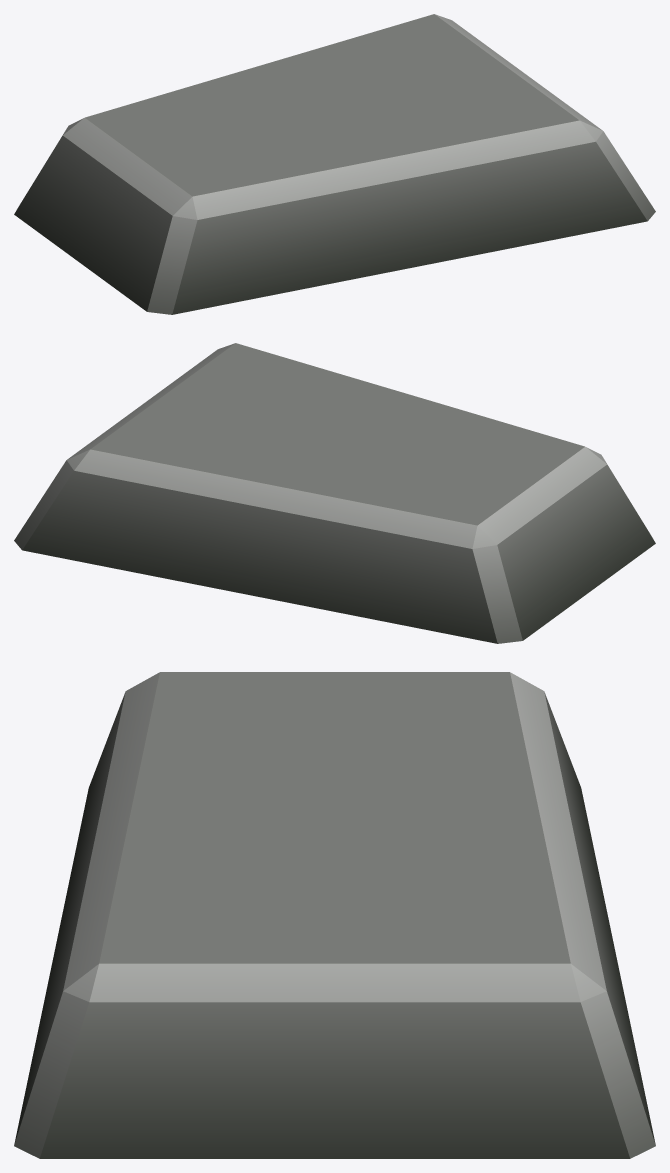
The model's file is Roadstones-1-5.fbx.
3 renders of one model, top to bottom at view 1: azimuth 30°, elevation 25°; view 2: azimuth 150°, elevation 25°; view 3: azimuth 270°, elevation 25°, orthographic. The views are drawn at different scales.
Parts seen in each view (by area): view 1: Roadstones-1-5; view 2: Roadstones-1-5; view 3: Roadstones-1-5.
Part boxes in pixels (left/top/right/bottom): Roadstones-1-5: left=14, top=14, right=655, bottom=314; Roadstones-1-5: left=14, top=343, right=655, bottom=643; Roadstones-1-5: left=14, top=672, right=655, bottom=1158.
Size of the model in its own units: 99.29 by 18.02 by 70.24.
